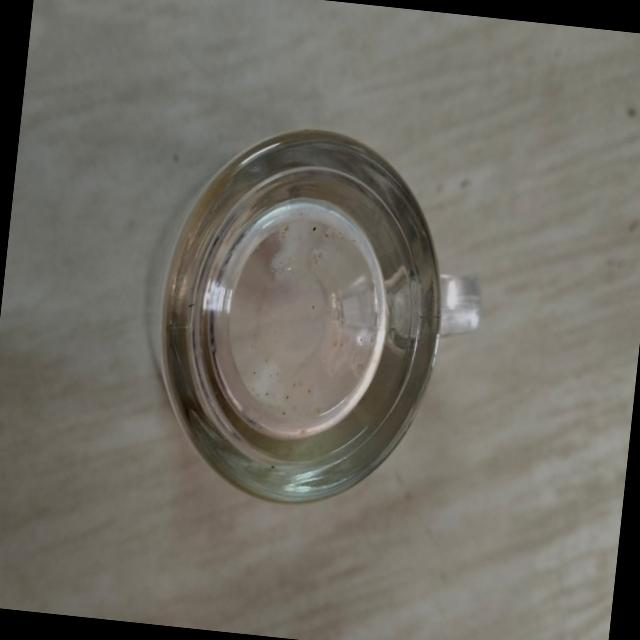glass-VX4N: (124, 94, 499, 520)
